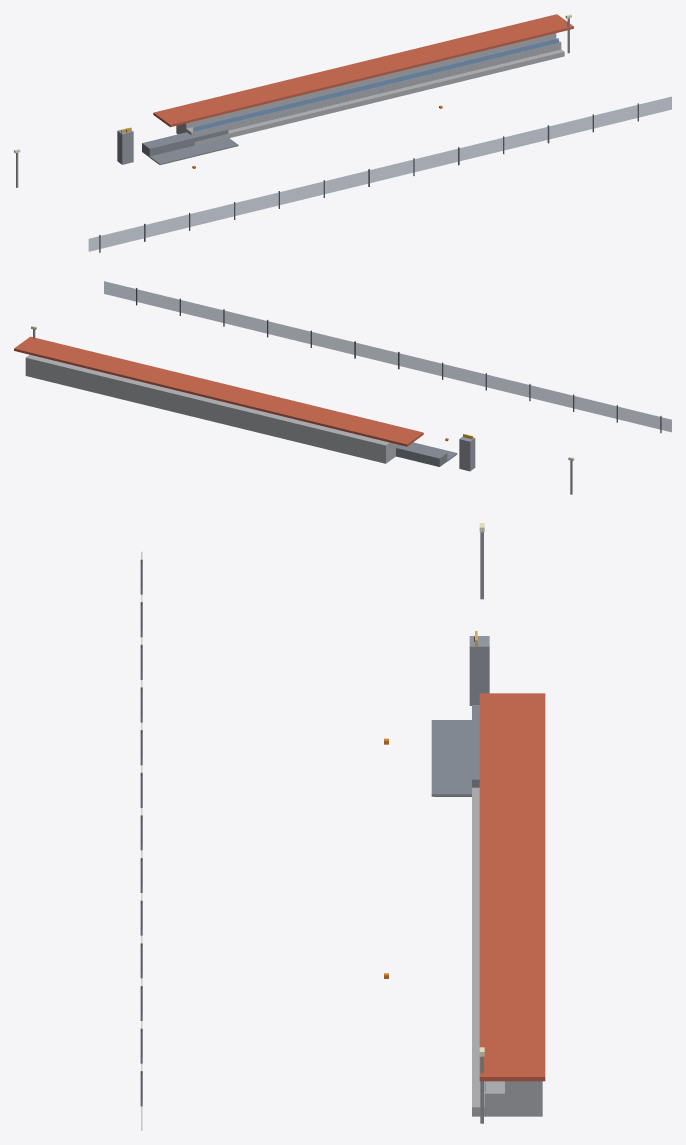
The model's file is venue_13.obj.
The picture shows the model from 3 angles, top to bottom: view 1: azimuth 30°, elevation 25°; view 2: azimuth 150°, elevation 25°; view 3: azimuth 270°, elevation 25°; orthographic projection. The views are drawn at different scales.
Size of the model in its own units: 520 by 32 by 160.
